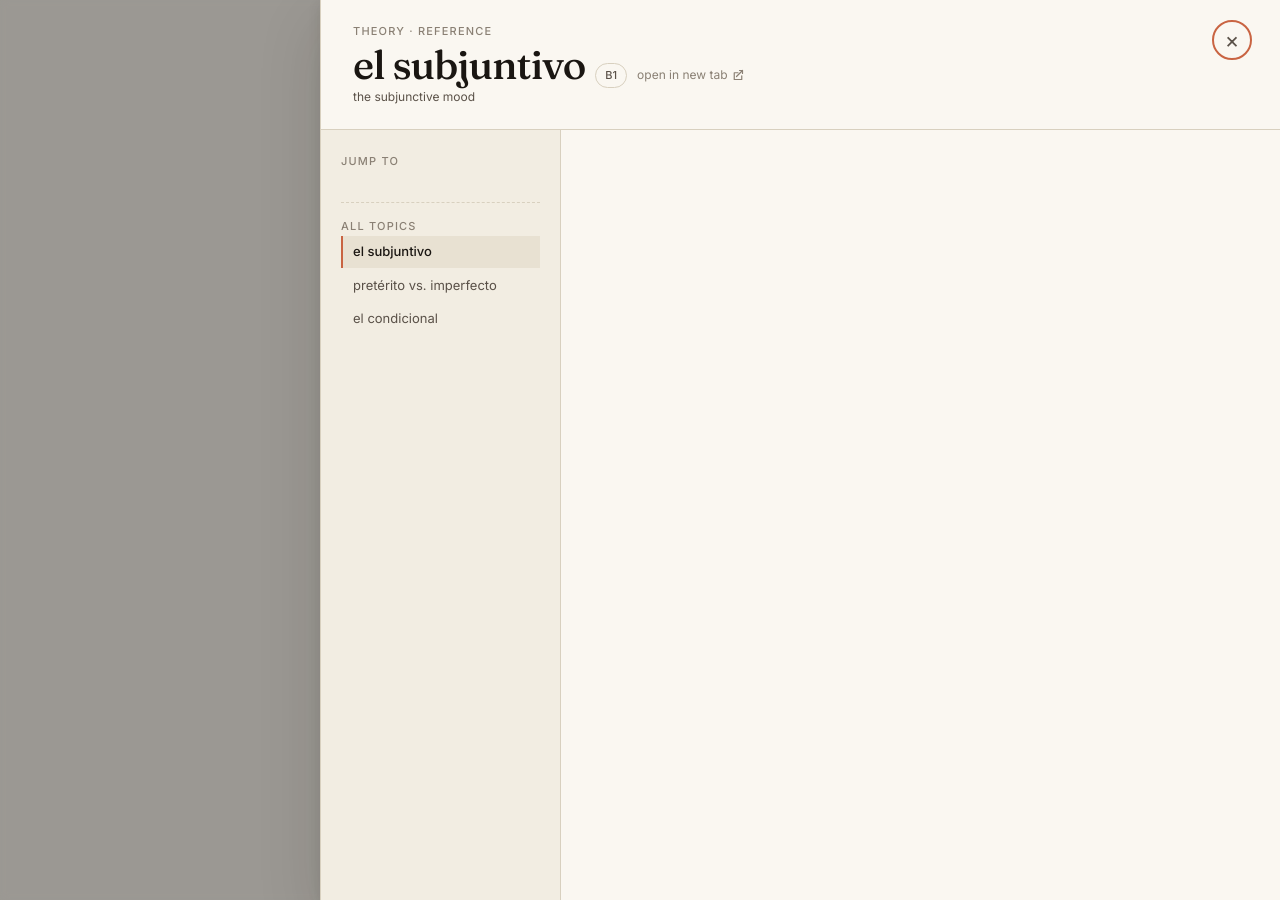
TheoryPanel › swaps the rendered topic in place when an "other topic" is selected
This screenshot has width=1280, height=900.
Check: the heading "el subjuntivo" is shown, box [353,43,585,87]
# Click the "other topic" button for preterite vs. imperfecto.
Click the button "pretérito vs. imperfecto": (440, 285) [341,270,540,301]
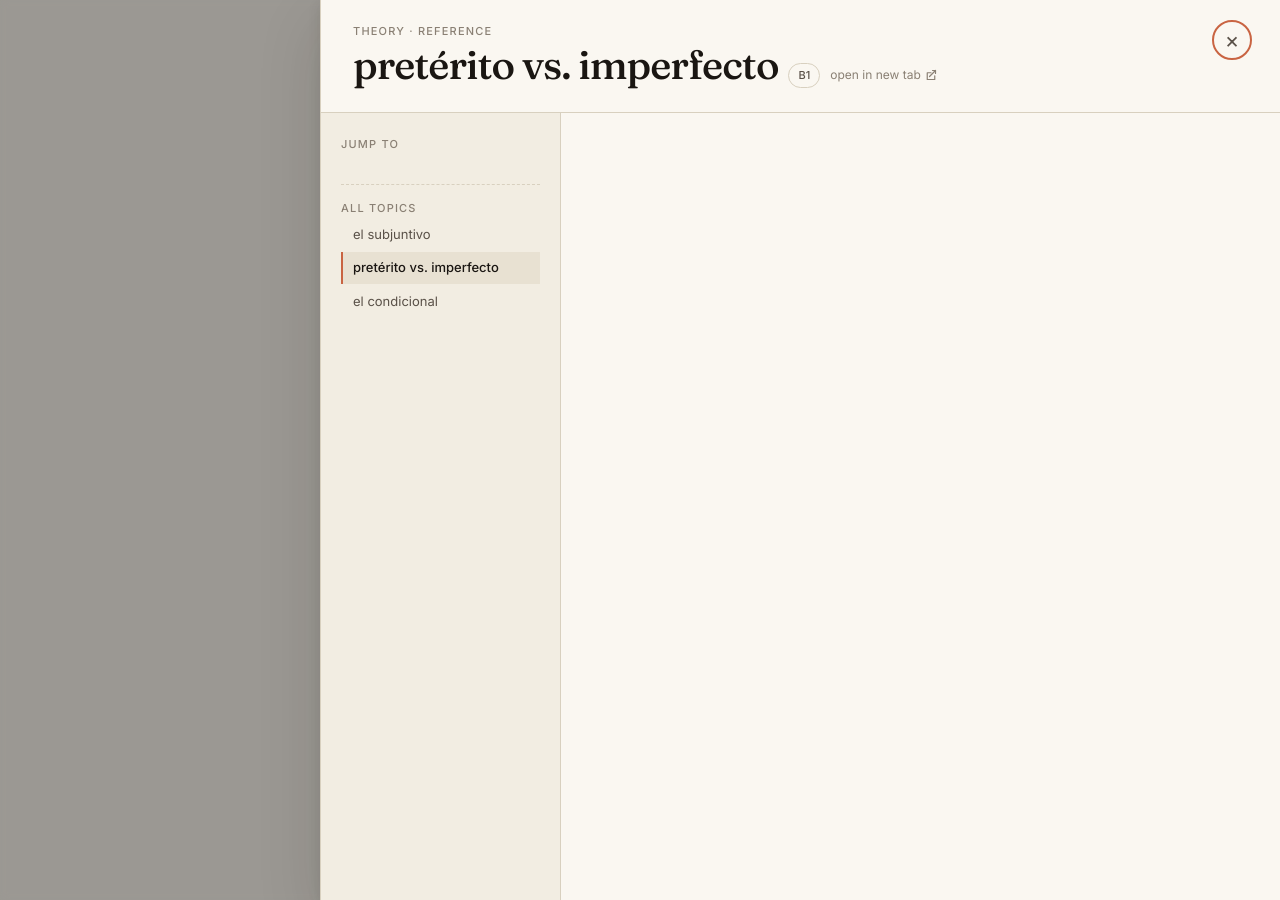
Check: the heading "pretérito vs. imperfecto" is shown, box [353,43,778,87]
